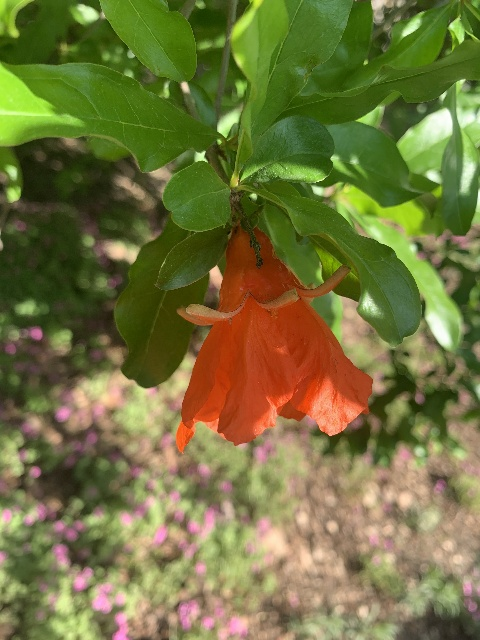flower: (176, 222, 372, 451)
